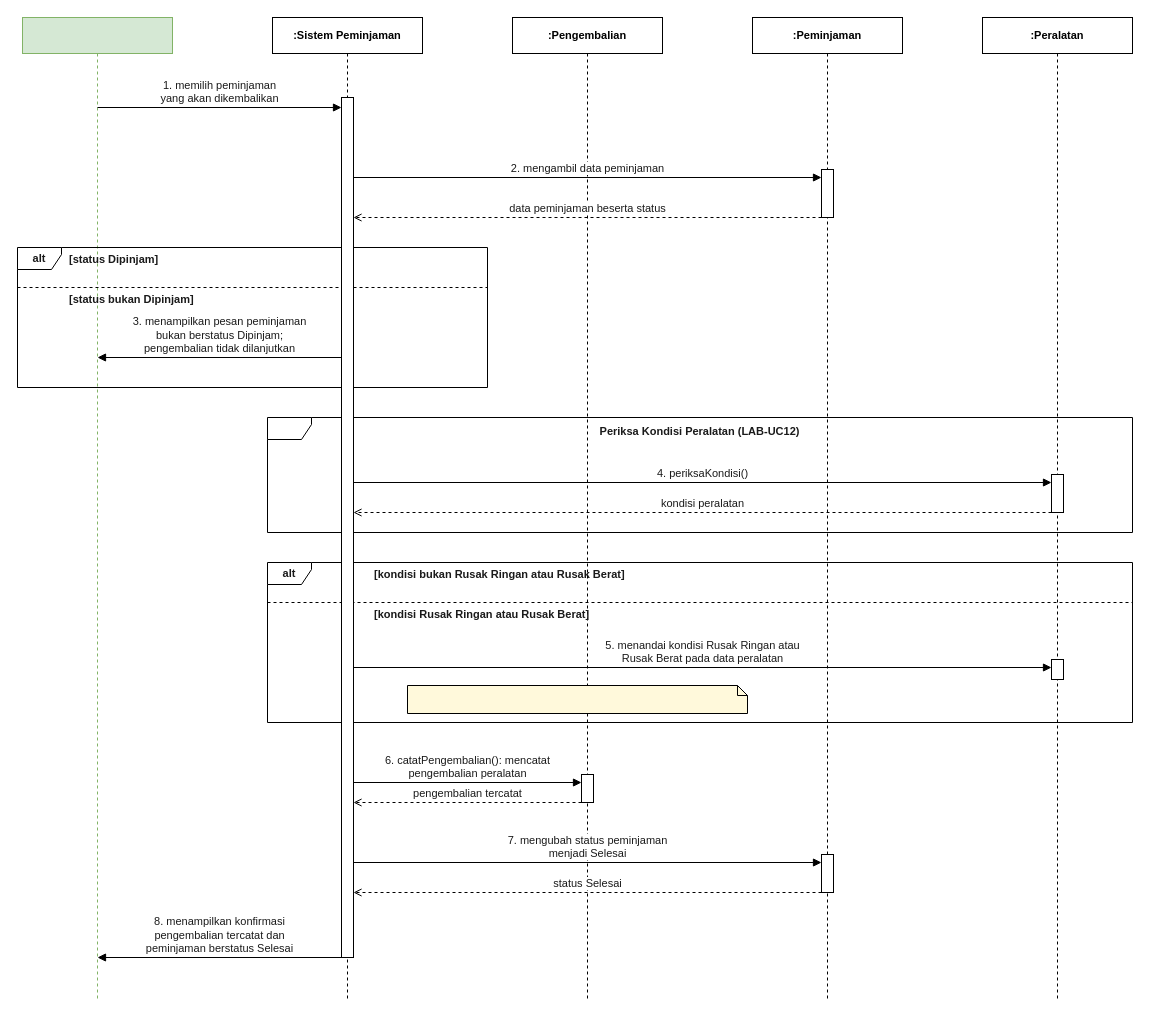
This 1151x1017 diagram has some shape labels left out. The box of each missing label's shape, as (x1, y1, x2, y2) in pixels:
Pengembalian tetap dicatat, tanpa denda: (406, 684, 748, 714)
Petugas Laboratorium: (22, 16, 172, 1000)
ref: (266, 416, 1132, 532)
